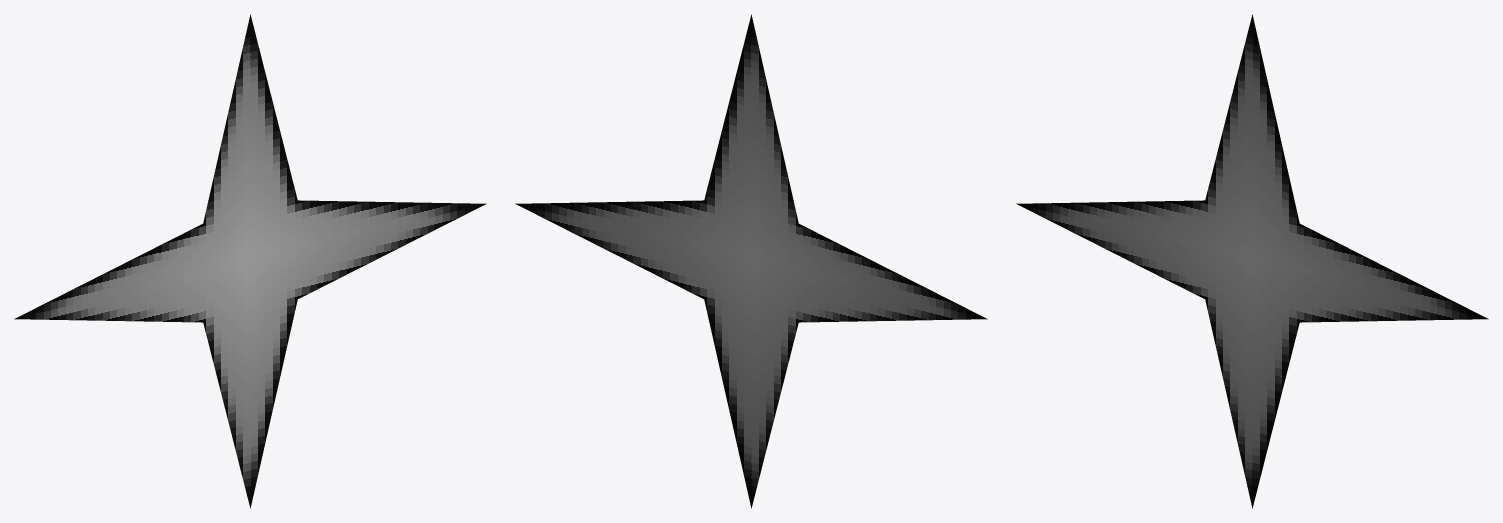
Rendered from sparkle.glb.
3 views of the same model, side by side, from view 1: azimuth 30°, elevation 25°; view 2: azimuth 150°, elevation 25°; view 3: azimuth 330°, elevation 25° (orthographic).
Visible parts, largest first — view 1: Sparkle; view 2: Sparkle; view 3: Sparkle.
Boxes of the visible parts, x1,y1,x2,y2 form: Sparkle: (14,14,486,508); Sparkle: (515,14,987,508); Sparkle: (1016,14,1488,508).
Bounding box in the file's own units: 2 × 2 × 1.75e-07.
Materials: 1 (1 with a texture image).
